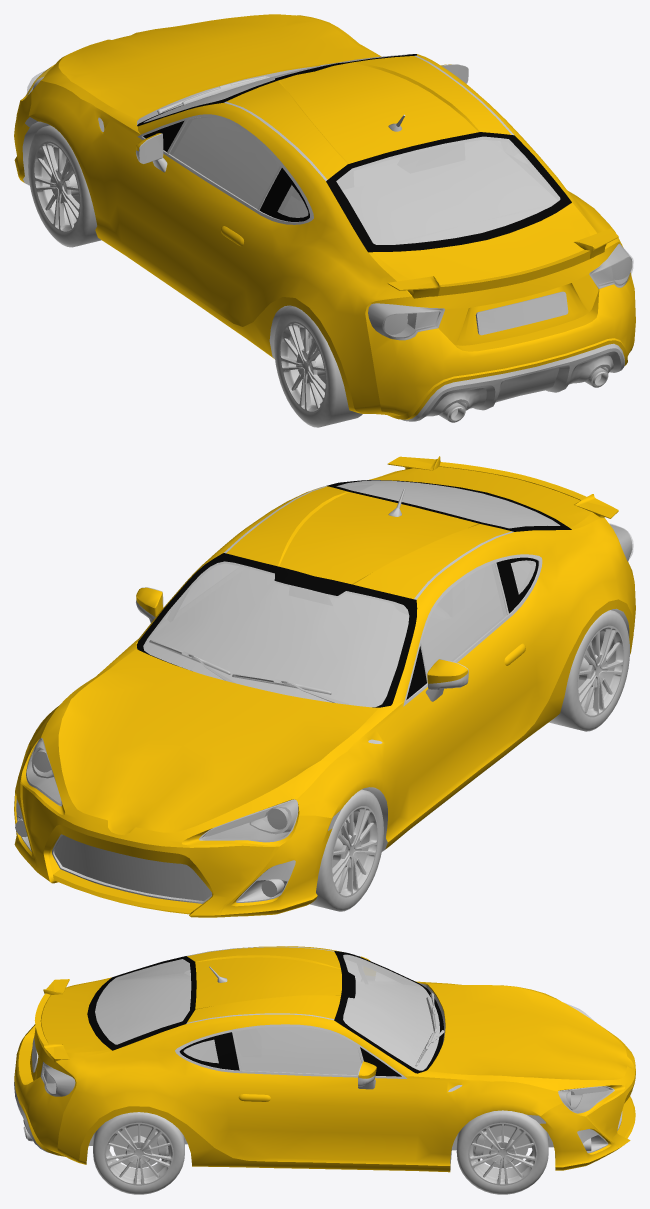
Rendered from car.gltf.
The picture shows the model from 3 angles, top to bottom: view 1: azimuth 30°, elevation 25°; view 2: azimuth 150°, elevation 25°; view 3: azimuth 270°, elevation 25°; orthographic projection. The views are drawn at different scales.
Visible parts, largest first — view 1: node_SportCar20_Paint_LOD0_-31106, node_SportCar20_Windows_LOD0_-31118, node_SportCar20_Body_LOD0_-31202, node_SportCar20_WheelRearLeft_LOD0_-31070, node_SportCar20_WheelFrontLeft_LOD0_-31138, node_SportCar20_Spoiler_LOD0_-31148, node_SportCar20_NumberTypeEU_-31190, node_SportCar20_PlateTypeEU_LOD0_-31140; view 2: node_SportCar20_Paint_LOD0_-31106, node_SportCar20_Windows_LOD0_-31118, node_SportCar20_Body_LOD0_-31202, node_SportCar20_WheelRearLeft_LOD0_-31070, node_SportCar20_WheelFrontLeft_LOD0_-31138, node_SportCar20_Spoiler_LOD0_-31148; view 3: node_SportCar20_Paint_LOD0_-31106, node_SportCar20_Windows_LOD0_-31118, node_SportCar20_WheelFrontRight_LOD0_-31188, node_SportCar20_WheelRearRight_LOD0_-31206, node_SportCar20_Body_LOD0_-31202, node_SportCar20_Spoiler_LOD0_-31148.
Part boxes in pixels (<box>): node_SportCar20_Paint_LOD0_-31106: <box>14,14,635,419</box>; node_SportCar20_Windows_LOD0_-31118: <box>26,54,633,339</box>; node_SportCar20_Body_LOD0_-31202: <box>22,55,632,422</box>; node_SportCar20_WheelRearLeft_LOD0_-31070: <box>274,306,362,427</box>; node_SportCar20_WheelFrontLeft_LOD0_-31138: <box>28,125,101,247</box>; node_SportCar20_Spoiler_LOD0_-31148: <box>387,228,618,298</box>; node_SportCar20_NumberTypeEU_-31190: <box>494,296,561,328</box>; node_SportCar20_PlateTypeEU_LOD0_-31140: <box>475,291,568,335</box>; node_SportCar20_Paint_LOD0_-31106: <box>14,467,635,917</box>; node_SportCar20_Windows_LOD0_-31118: <box>26,480,633,841</box>; node_SportCar20_Body_LOD0_-31202: <box>15,486,632,903</box>; node_SportCar20_WheelRearLeft_LOD0_-31070: <box>549,610,629,731</box>; node_SportCar20_WheelFrontLeft_LOD0_-31138: <box>310,789,383,911</box>; node_SportCar20_Spoiler_LOD0_-31148: <box>387,456,618,518</box>; node_SportCar20_Paint_LOD0_-31106: <box>14,946,635,1172</box>; node_SportCar20_Windows_LOD0_-31118: <box>41,951,613,1113</box>; node_SportCar20_WheelFrontRight_LOD0_-31188: <box>456,1110,548,1194</box>; node_SportCar20_WheelRearRight_LOD0_-31206: <box>93,1112,184,1194</box>; node_SportCar20_Body_LOD0_-31202: <box>14,946,622,1169</box>; node_SportCar20_Spoiler_LOD0_-31148: <box>34,979,69,1062</box>.
Bounding box in the file's own units: 1.95 × 1.34 × 4.31.
